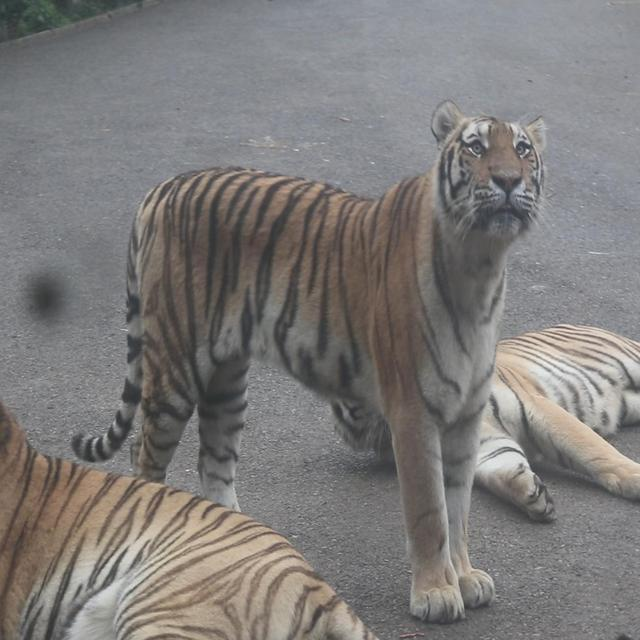tiger: (66, 97, 554, 622), (0, 390, 392, 640), (321, 308, 640, 525)
